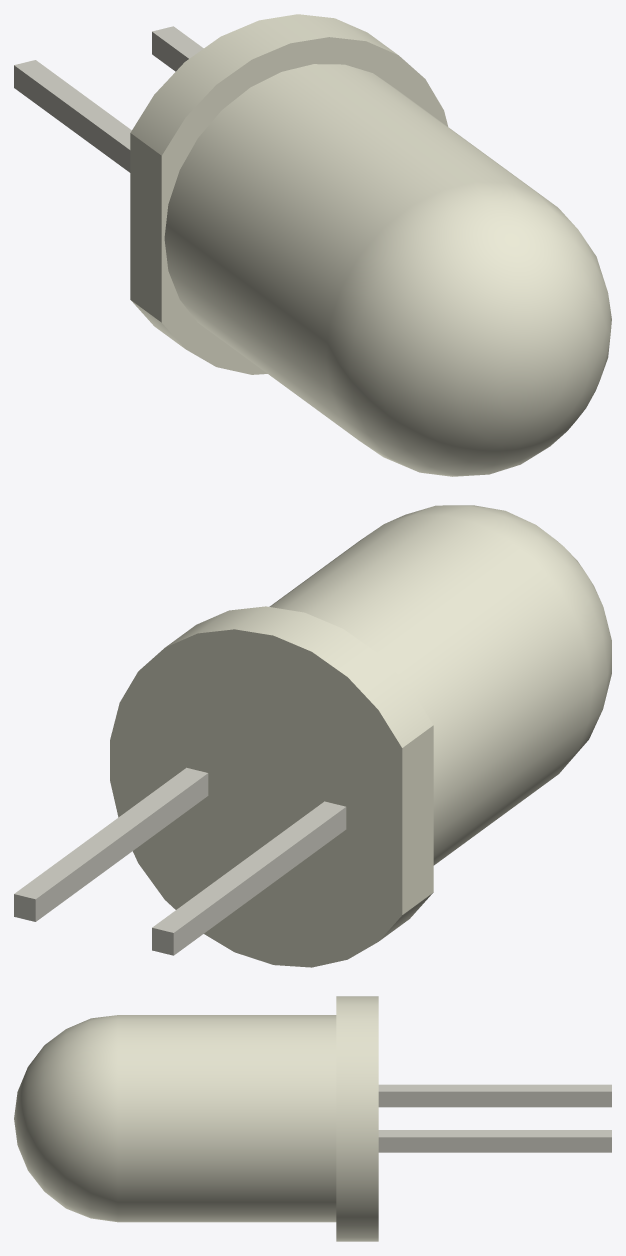
The model's file is LED_D5.0mm_Clear.glb.
3 renders of one model, top to bottom at view 1: azimuth 30°, elevation 25°; view 2: azimuth 150°, elevation 25°; view 3: azimuth 270°, elevation 25°, orthographic. The views are drawn at different scales.
Visible parts, largest first — view 1: LED_D5.0mm_Clear_8d34b2, LED_D5.0mm_Clear_995ae3; view 2: LED_D5.0mm_Clear_8d34b2, LED_D5.0mm_Clear_995ae3; view 3: LED_D5.0mm_Clear_8d34b2, LED_D5.0mm_Clear_995ae3.
Part boxes in pixels (x1=…): LED_D5.0mm_Clear_8d34b2: x1=130, y1=14, x2=611, y2=476; LED_D5.0mm_Clear_995ae3: x1=14, y1=26, x2=203, y2=172; LED_D5.0mm_Clear_8d34b2: x1=110, y1=505, x2=611, y2=967; LED_D5.0mm_Clear_995ae3: x1=14, y1=767, x2=346, y2=955; LED_D5.0mm_Clear_8d34b2: x1=14, y1=996, x2=378, y2=1241; LED_D5.0mm_Clear_995ae3: x1=378, y1=1084, x2=611, y2=1152.
Size of the model in its own units: 0.00538 by 0.00579 by 0.0141.
